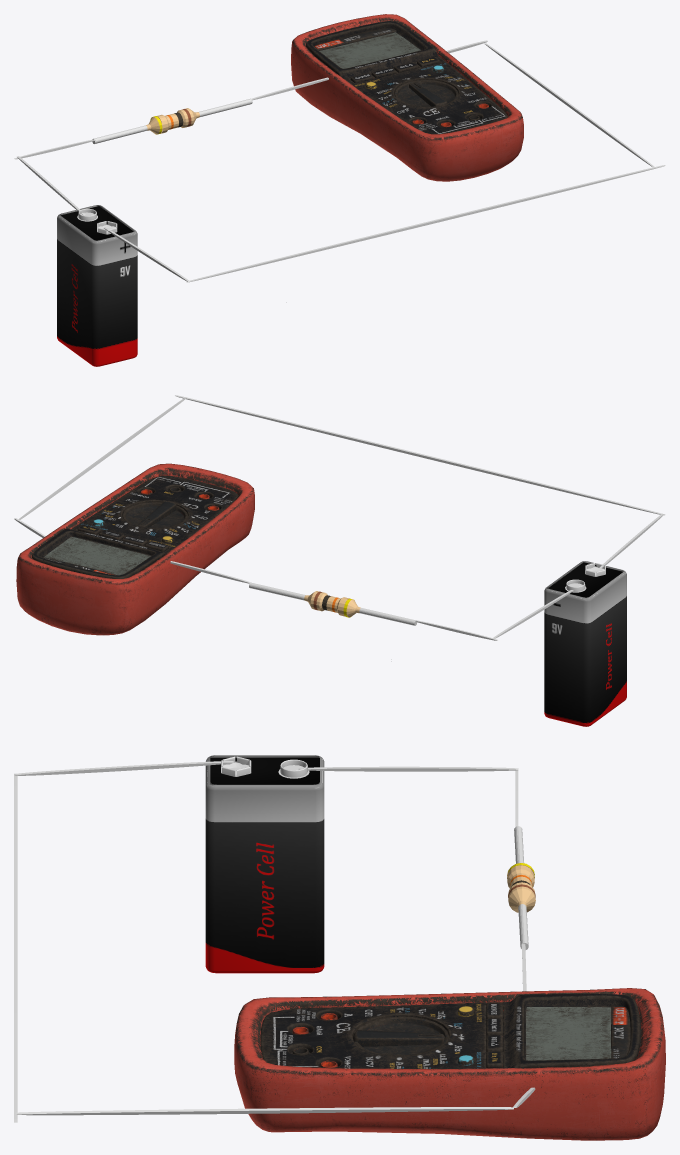
File: Circuit 2_blender.glb
3 views of the same model, one above another, from view 1: azimuth 30°, elevation 25°; view 2: azimuth 150°, elevation 25°; view 3: azimuth 270°, elevation 25° (orthographic). The views are drawn at different scales.
Parts seen in each view (by area): view 1: Multimeter_LP, Battery-9V_2.002, Cylinder, Resistor, Cylinder.007; view 2: Multimeter_LP, Battery-9V_2.002, Cylinder, Resistor, Cylinder.007; view 3: Multimeter_LP, Battery-9V_2.002, Cylinder.007, Resistor, Cylinder, Cylinder.005, Cylinder.006.
Part boxes in pixels (x1,y1,x2,y2): Multimeter_LP: (291,14,523,181); Battery-9V_2.002: (57,205,137,366); Cylinder: (186,165,665,282); Resistor: (92,98,252,143); Cylinder.007: (484,43,654,167); Multimeter_LP: (16,463,254,635); Battery-9V_2.002: (544,561,626,726); Cylinder: (175,395,665,515); Resistor: (249,582,417,625); Cylinder.007: (19,397,186,519); Multimeter_LP: (234,988,665,1140); Battery-9V_2.002: (205,755,324,973); Cylinder.007: (16,1107,513,1115); Resistor: (507,826,535,949); Cylinder: (14,773,17,1122); Cylinder.005: (14,761,233,775); Cylinder.006: (298,766,518,771).
Bounding box in the file's own units: 9.53 × 2.48 × 7.1.
17 materials, 2 textured.
